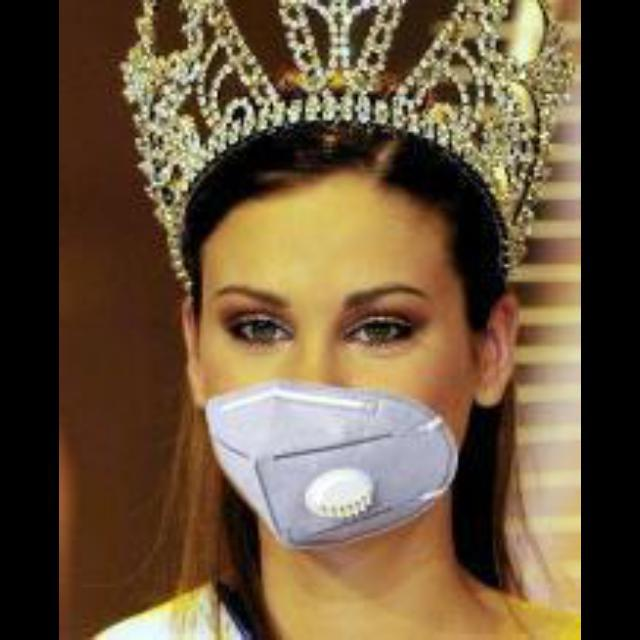suspicion: (135, 109, 510, 552)
